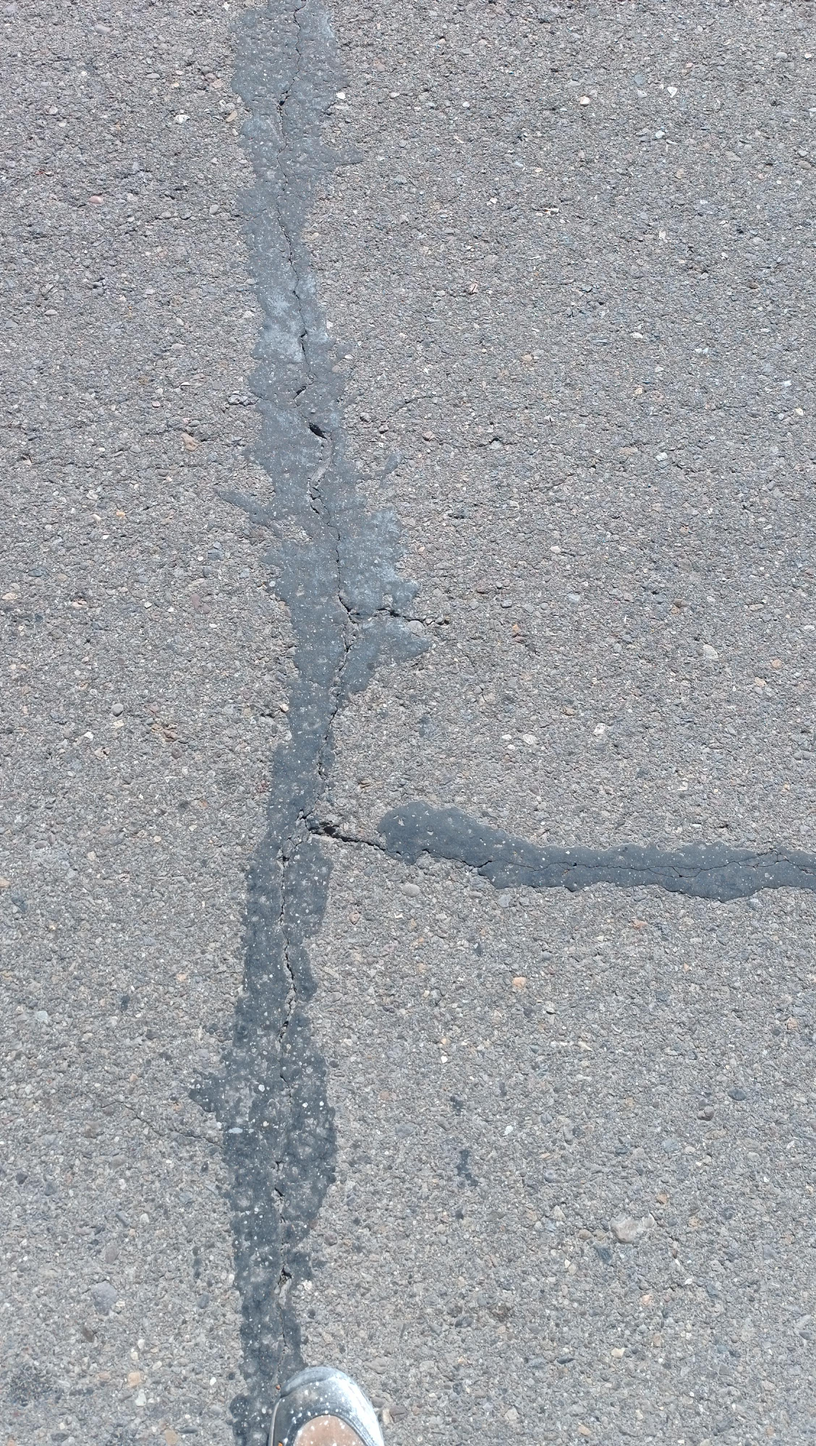GRIETA: (293, 386, 363, 791), (313, 826, 814, 880), (277, 839, 309, 1045), (273, 1246, 295, 1374), (278, 5, 307, 96), (275, 202, 291, 249), (276, 143, 288, 192), (289, 251, 300, 300), (300, 325, 310, 366)
